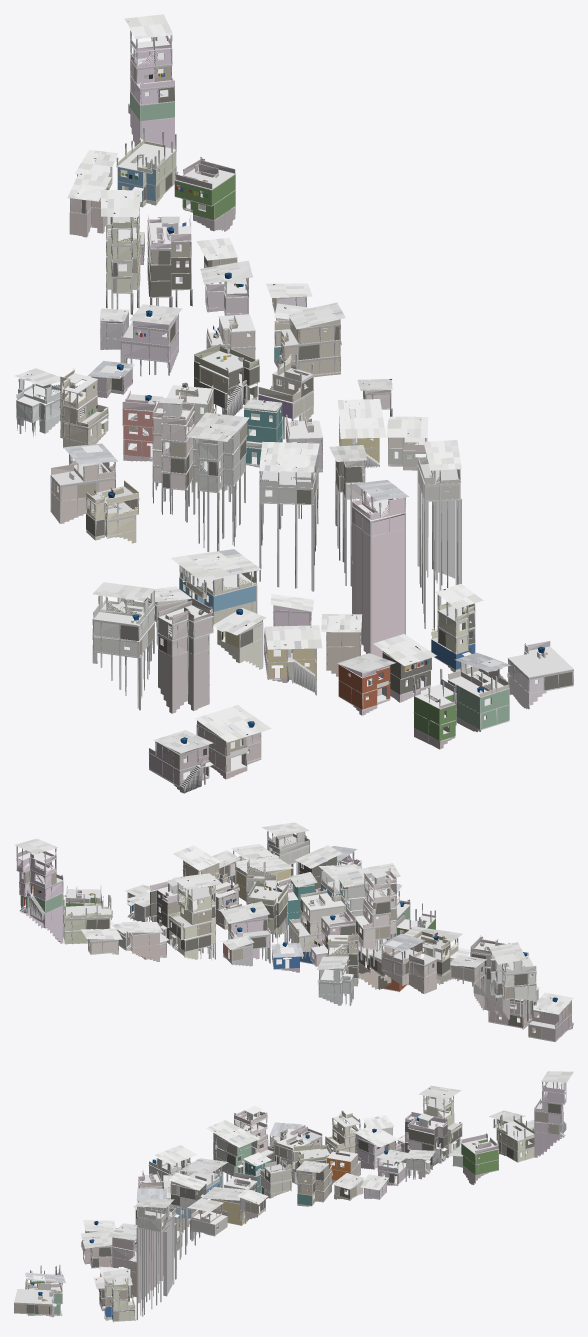
3 renders of one model, top to bottom at view 1: azimuth 30°, elevation 25°; view 2: azimuth 150°, elevation 25°; view 3: azimuth 270°, elevation 25°, orthographic. The views are drawn at different scales.
Parts seen in each view (by area): view 1: T_24_27; view 2: T_24_27; view 3: T_24_27.
Boxes of the visible parts, x1=… form: T_24_27: x1=14, y1=14, x2=573, y2=793; T_24_27: x1=14, y1=822, x2=573, y2=1042; T_24_27: x1=14, y1=1071, x2=573, y2=1322.
Size of the model in its own units: 69.96 by 75.26 by 138.
